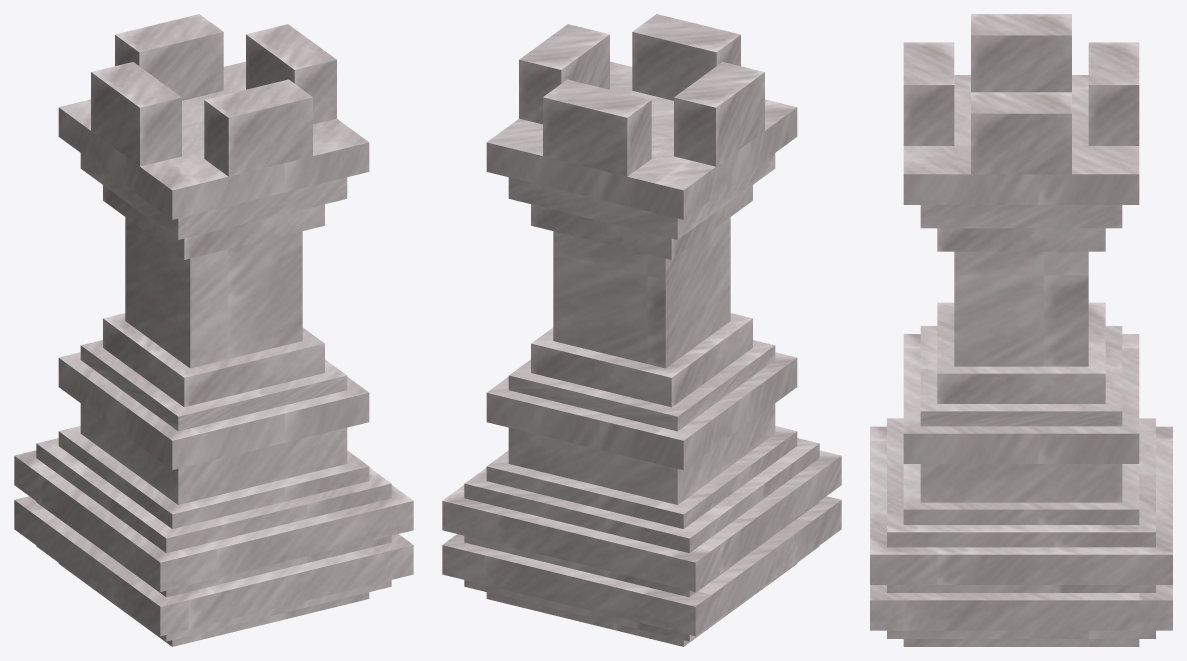
File: Tour.fbx
3 renders of one model, left to right at view 1: azimuth 30°, elevation 25°; view 2: azimuth 150°, elevation 25°; view 3: azimuth 270°, elevation 25°, orthographic. The views are drawn at different scales.
Parts seen in each view (by area): view 1: cube_11, cube_3, cube_5, cube_14, cube_8, cube, cube_2, cube_10, cube_15, cube_1, cube_16, cube_9 (+7 smaller); view 2: cube_11, cube_3, cube_5, cube_14, cube_8, cube, cube_2, cube_10, cube_18, cube_1, cube_16, cube_9 (+7 smaller); view 3: cube_11, cube_3, cube_14, cube_8, cube_5, cube_2, cube_10, cube_17, cube_16, cube, cube_9, cube_1 (+7 smaller).
Boxes of the visible parts, x1,y1,x2,y2 form: cube_11: (125,217,302,368); cube_3: (14,450,413,591); cube_5: (14,496,413,636); cube_14: (58,61,369,219); cube_8: (58,352,369,470); cube: (80,403,347,504); cube_2: (36,438,391,553); cube_10: (103,313,324,407); cube_15: (204,79,312,176); cube_1: (58,426,369,528); cube_16: (91,62,181,166); cube_9: (80,340,347,431); cube_11: (553,217,730,368); cube_3: (442,450,841,591); cube_5: (442,496,841,636); cube_14: (486,61,797,219); cube_8: (486,352,797,470); cube: (508,403,775,504); cube_2: (464,438,819,553); cube_10: (531,313,752,407); cube_18: (543,79,651,176); cube_1: (486,426,797,528); cube_16: (674,62,764,166); cube_9: (508,340,775,431); cube_11: (954,251,1088,366); cube_3: (870,426,1172,584); cube_14: (903,75,1139,204); cube_8: (903,334,1139,463); cube_5: (870,585,1172,630); cube_2: (887,418,1155,547); cube_10: (937,302,1105,403); cube_17: (971,92,1071,174); cube_16: (971,14,1071,92); cube: (920,464,1122,502); cube_9: (920,326,1122,426); cube_1: (903,464,1139,524).
Size of the model in its own units: 112 by 219 by 112.
1 material, 1 textured.
